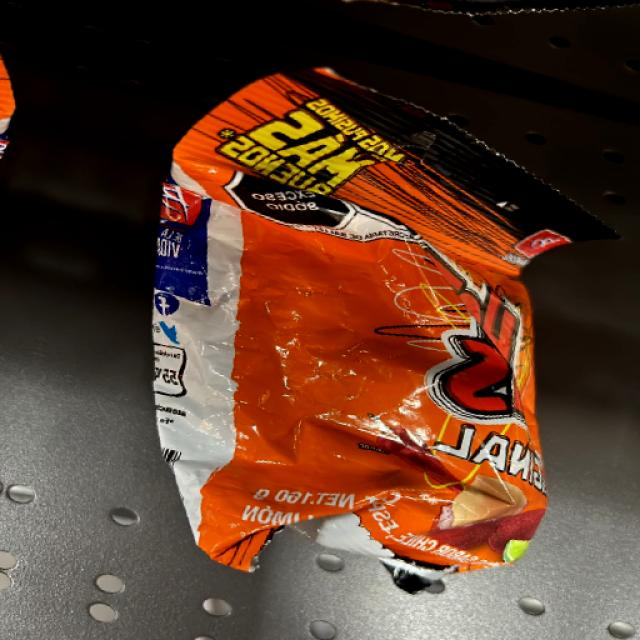hotNutsOriginal: (238, 210, 553, 586)
